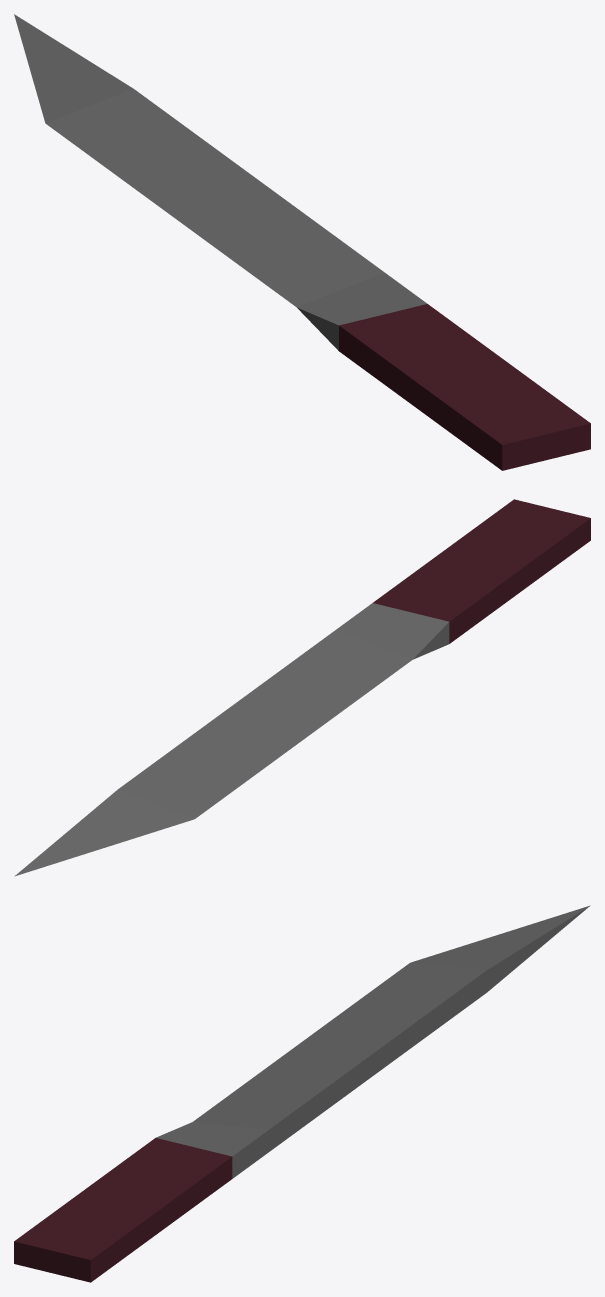
File: knife.fbx
3 renders of one model, top to bottom at view 1: azimuth 30°, elevation 25°; view 2: azimuth 150°, elevation 25°; view 3: azimuth 330°, elevation 25°, orthographic. The views are drawn at different scales.
Parts seen in each view (by area): view 1: knife; view 2: knife; view 3: knife.
Part boxes in pixels (left/top/right/bottom): knife: left=14, top=14, right=590, bottom=470; knife: left=14, top=499, right=590, bottom=876; knife: left=14, top=905, right=590, bottom=1282.
Size of the model in its own units: 0.1078 by 0.0301 by 1.22.
